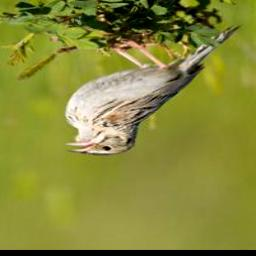Sparrow: (71, 23, 250, 156)
